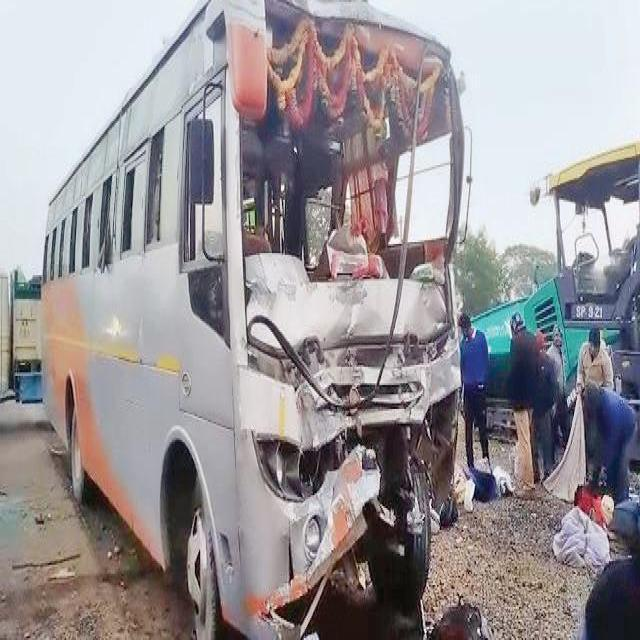accident: (41, 5, 462, 638)
truck: (475, 142, 640, 423)
